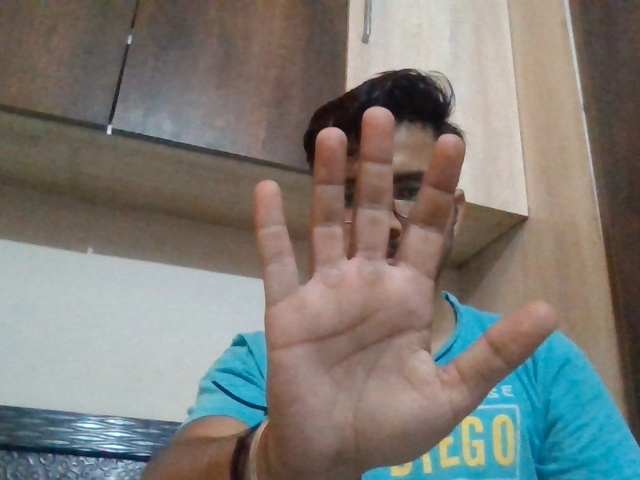hello: (235, 115, 560, 469)
